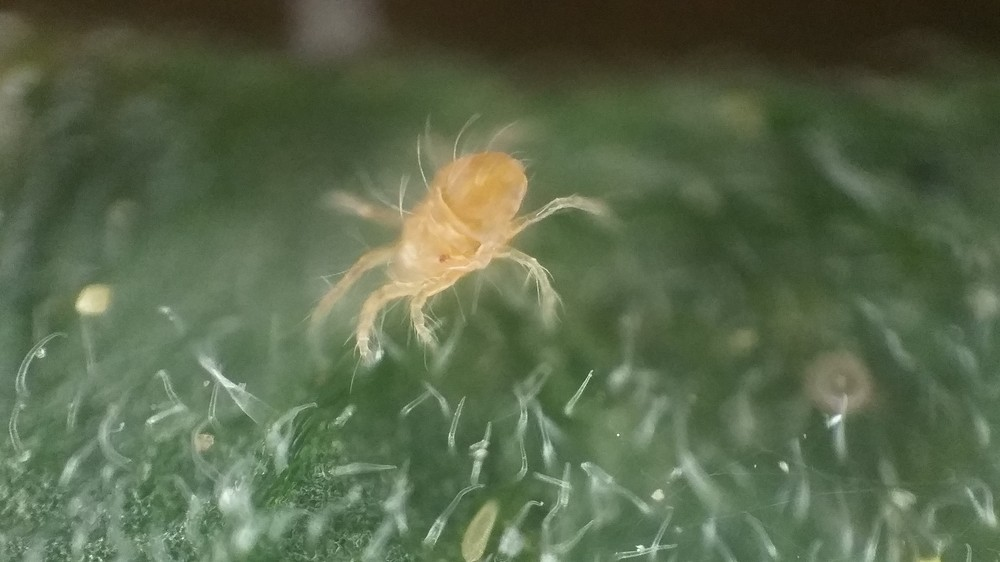Aracnido Rojo: (277, 107, 647, 380)
